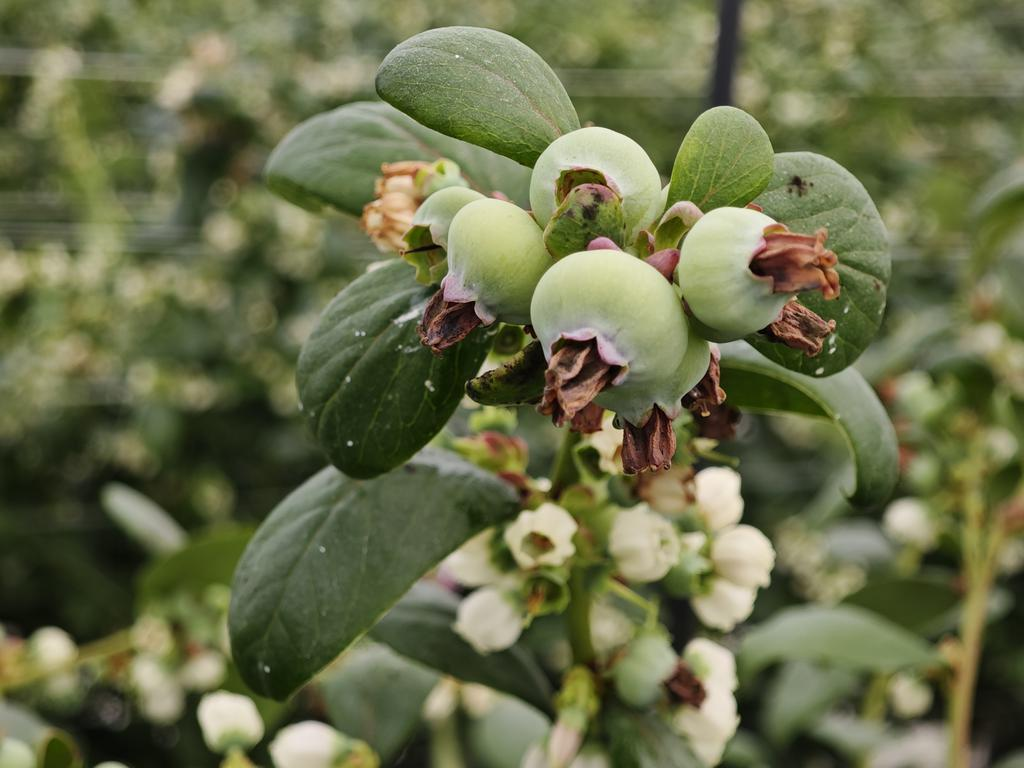UnripeBlueBerry: (527, 245, 690, 399), (682, 203, 811, 341), (529, 124, 665, 241), (440, 193, 556, 328)
